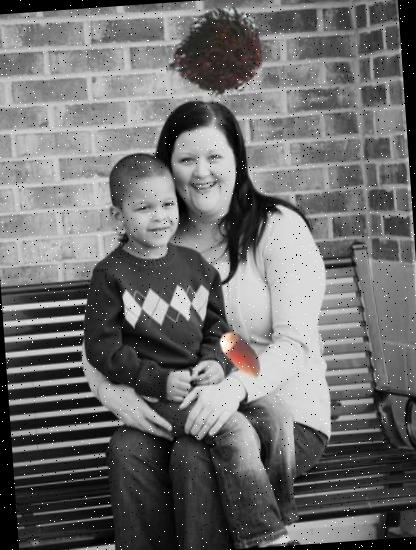Hazelnut: (210, 324, 272, 385)
Rambutan: (161, 1, 269, 108)
